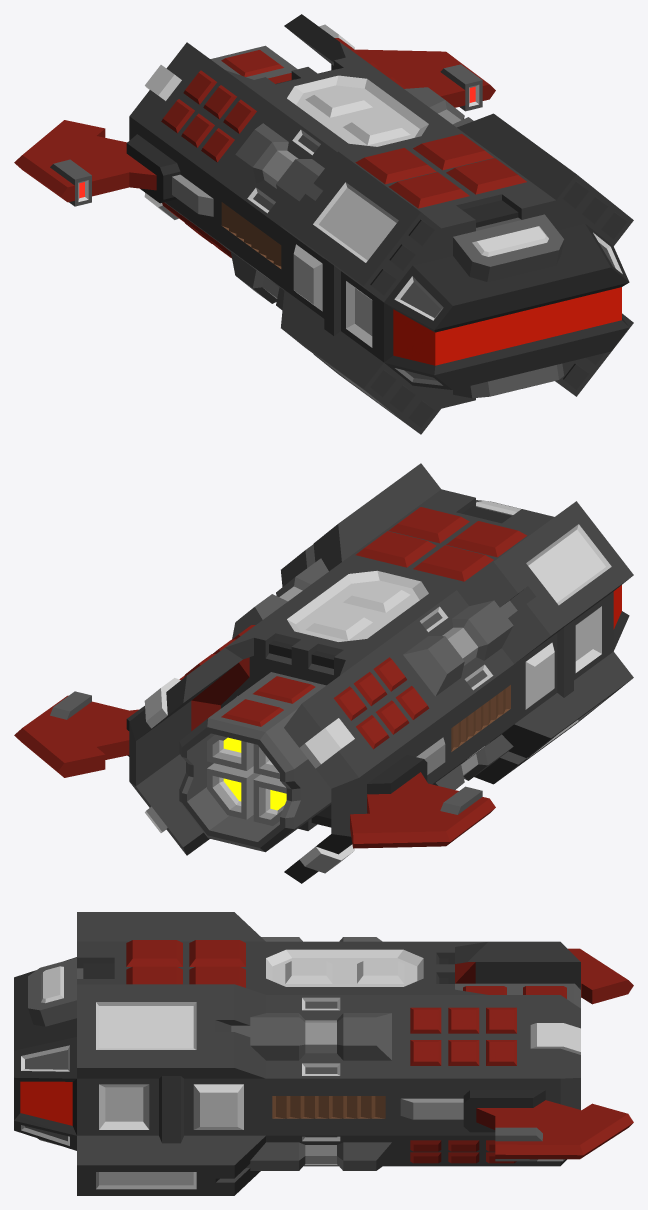
The model's file is Frigate03.fbx.
3 views of the same model, one above another, from view 1: azimuth 30°, elevation 25°; view 2: azimuth 150°, elevation 25°; view 3: azimuth 270°, elevation 25° (orthographic). The views are drawn at different scales.
Visible parts, largest first — view 1: Mesh_HD; view 2: Mesh_HD; view 3: Mesh_HD.
Part boxes in pixels (x1,y1,x2,y2): Mesh_HD: (14, 14, 633, 434); Mesh_HD: (14, 463, 633, 883); Mesh_HD: (14, 912, 633, 1195).
Size of the model in its own units: 418 by 204 by 541.
